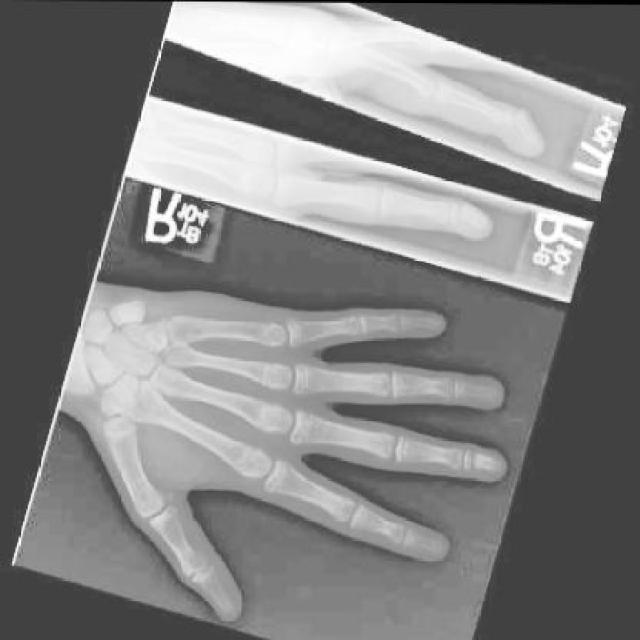Fracture: (492, 88, 543, 136), (451, 436, 491, 481), (442, 193, 481, 233)
